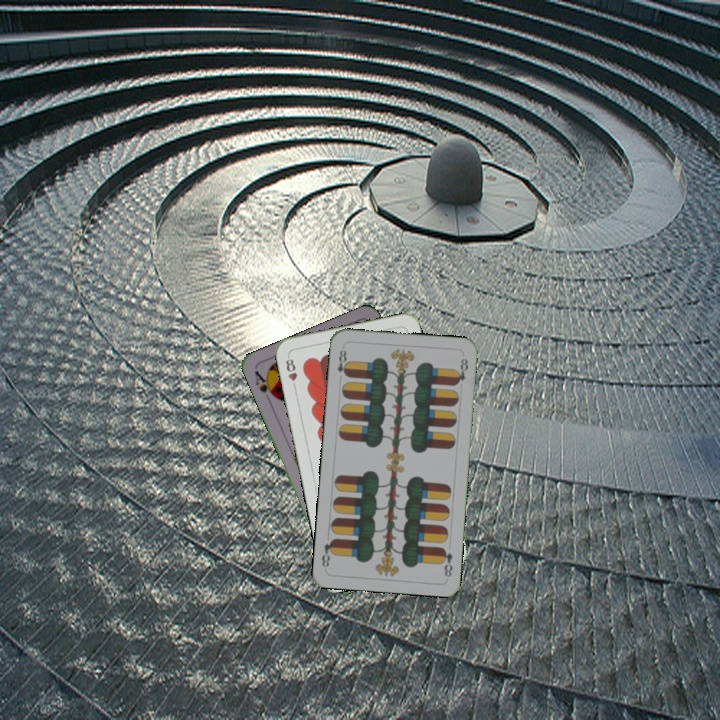E8: (437, 544, 455, 579), (333, 346, 351, 379)
H8: (282, 352, 300, 392)
SA: (250, 366, 279, 405)
